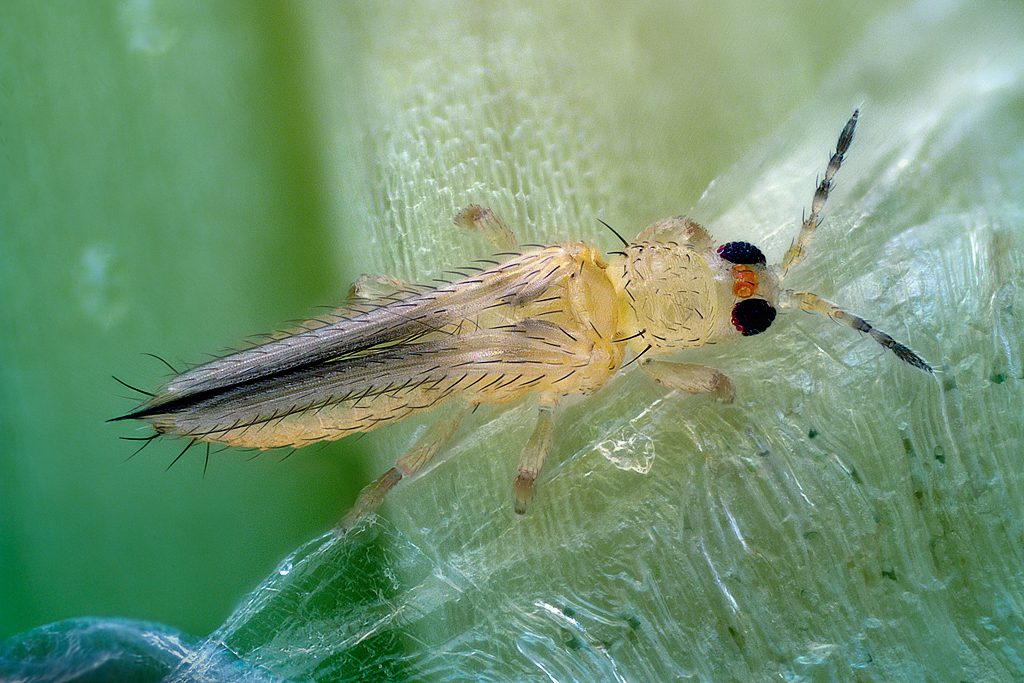Thrips: (120, 152, 896, 487)
